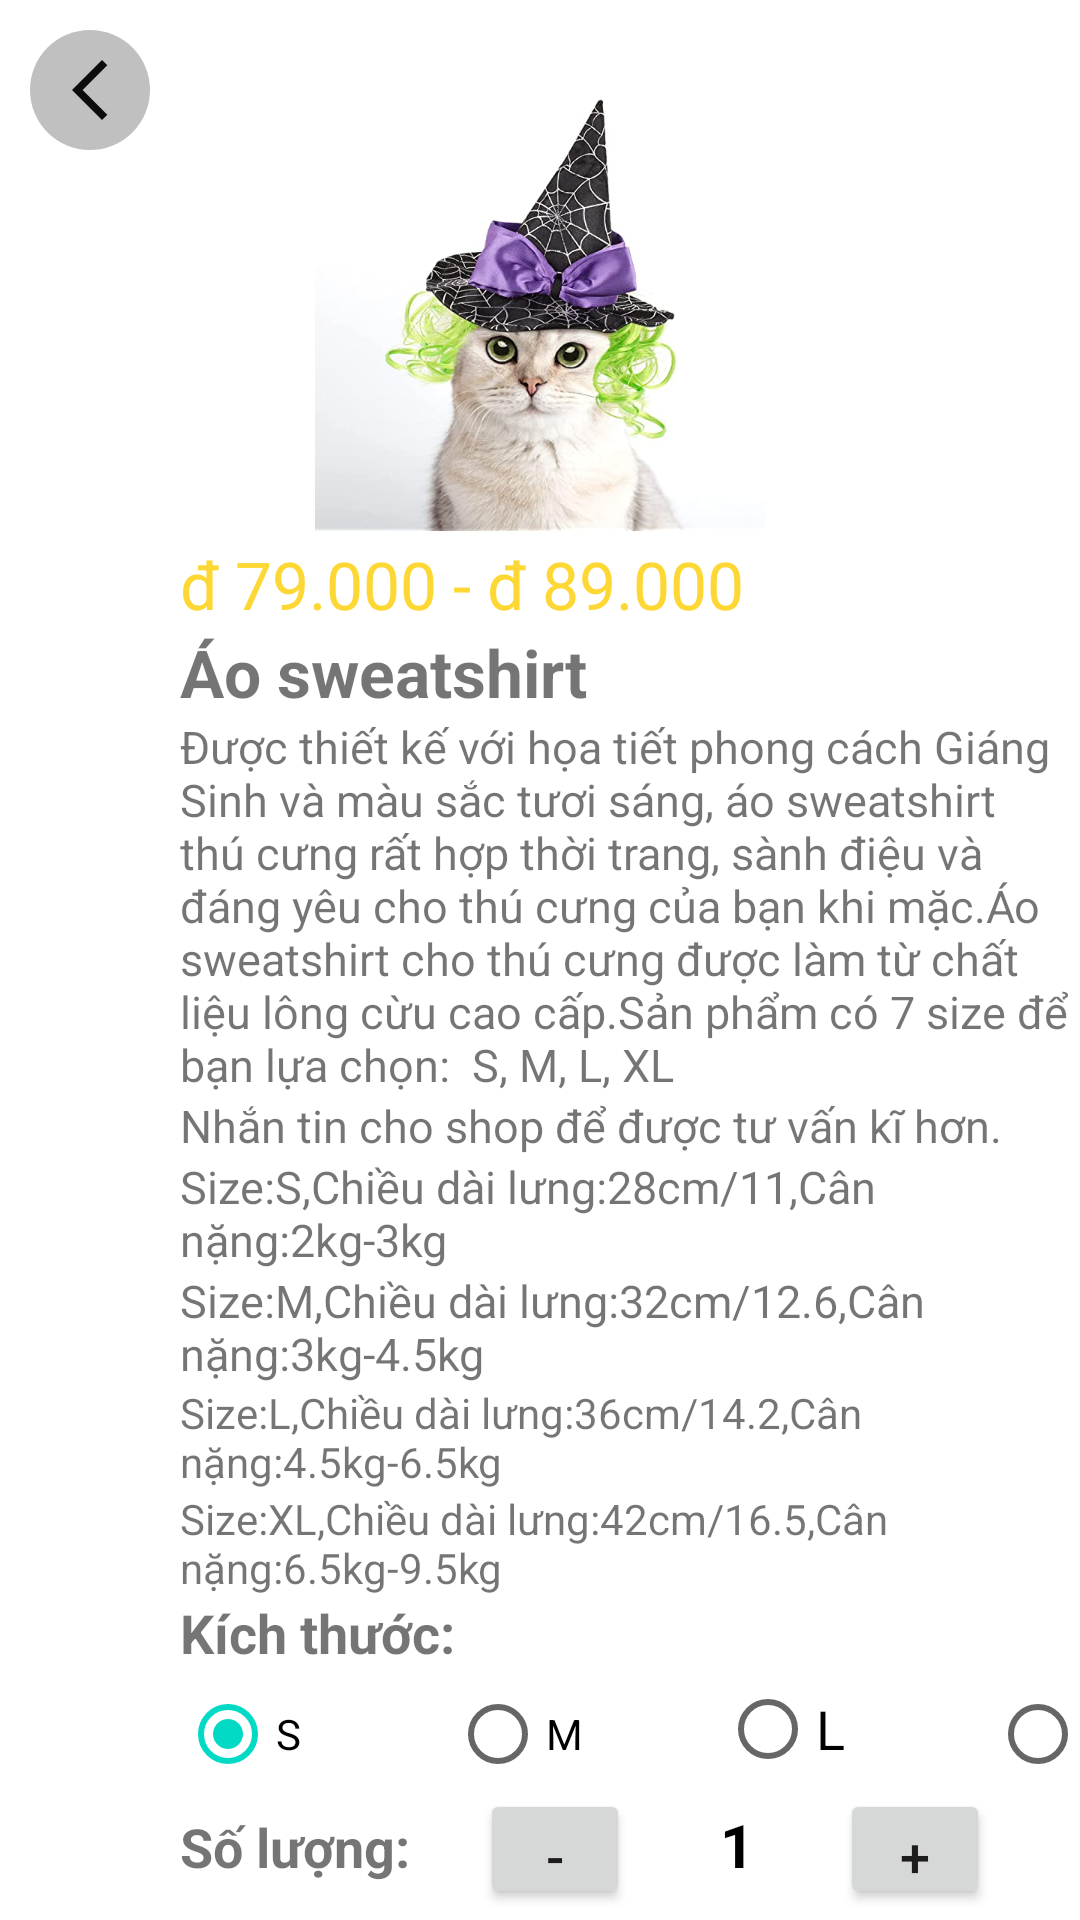

Locate icon controls on the screen. Image size 1080*1920, boxes as (x1, y1, x2, y2).
arrow back: (30, 30, 150, 150)
